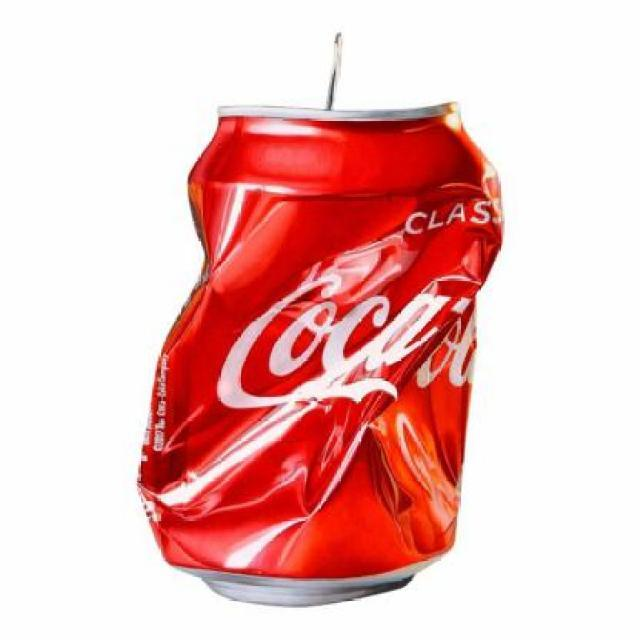can: (116, 25, 516, 631)
